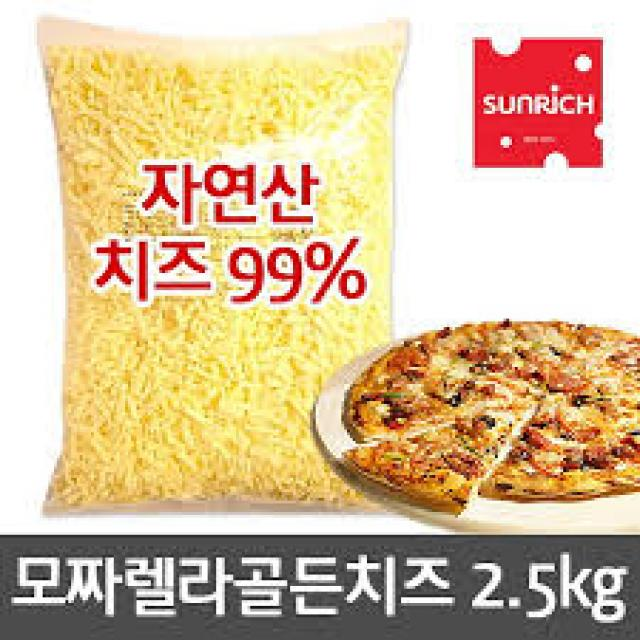Cheese: (91, 313, 259, 475)
